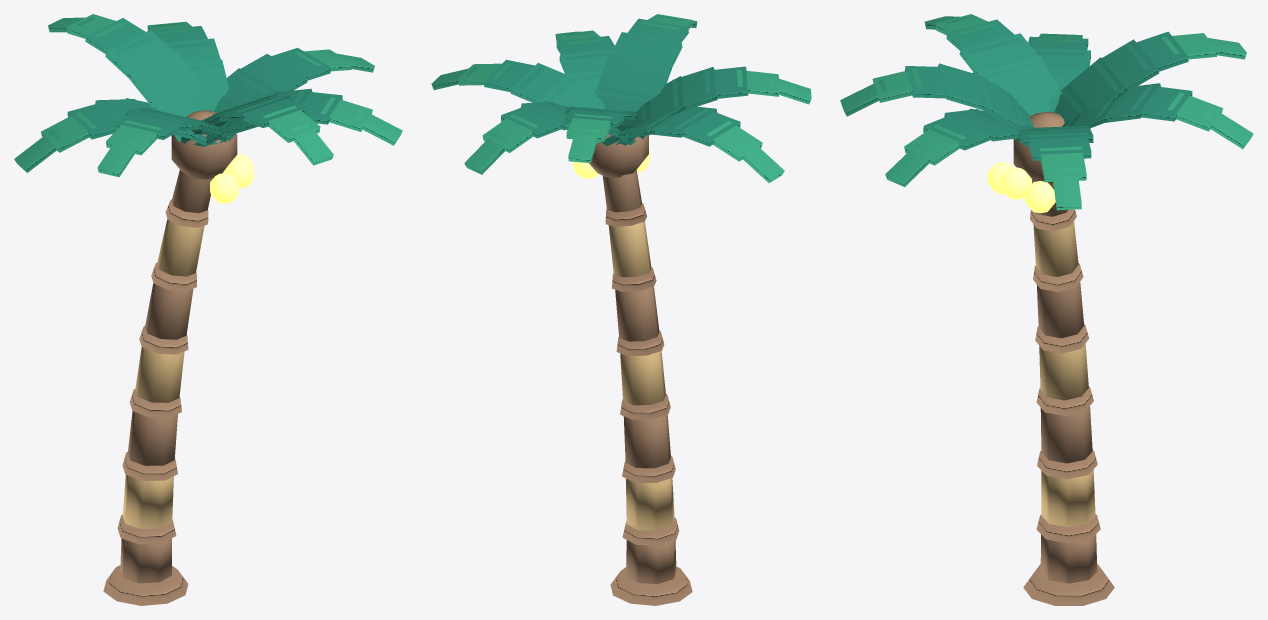
The model's file is space_palm.glb.
3 views of the same model, side by side, from view 1: azimuth 30°, elevation 25°; view 2: azimuth 150°, elevation 25°; view 3: azimuth 270°, elevation 25° (orthographic). The views are drawn at different scales.
Parts seen in each view (by area): view 1: Palm; view 2: Palm; view 3: Palm.
Part boxes in pixels (<box>): Palm: <box>14,14,402,605</box>; Palm: <box>431,14,811,605</box>; Palm: <box>840,14,1253,605</box>.
Bounding box in the file's own units: 1.95 × 2.75 × 1.88.
